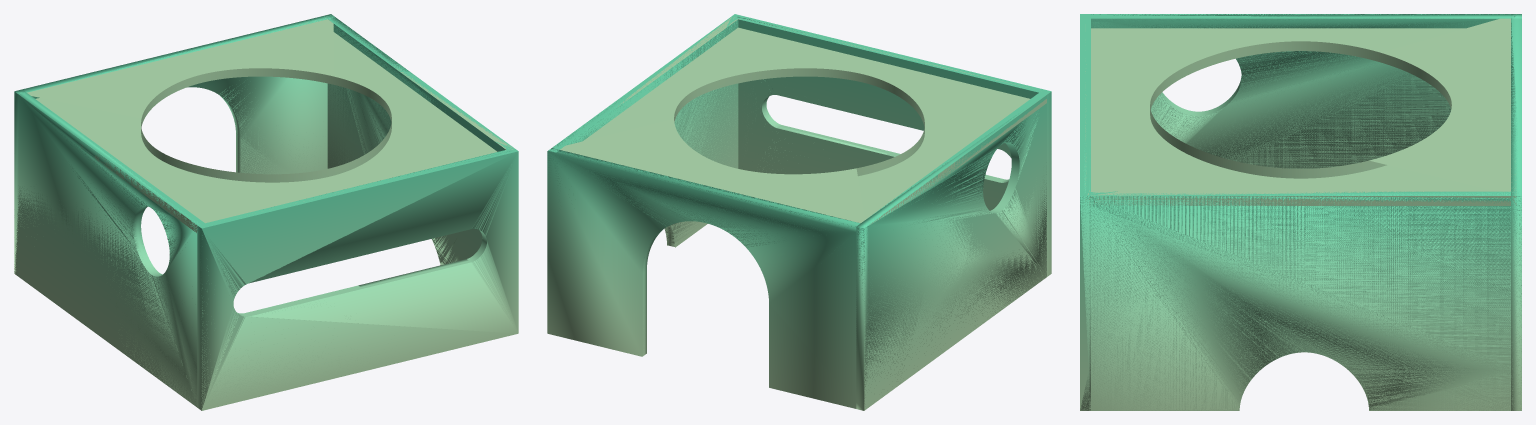
File: wallsandroof-13.glb
3 views of the same model, side by side, from view 1: azimuth 30°, elevation 25°; view 2: azimuth 150°, elevation 25°; view 3: azimuth 270°, elevation 25° (orthographic). The views are drawn at different scales.
Parts seen in each view (by area): view 1: Mesh_1, Mesh_4, Mesh_2, Mesh_3; view 2: Mesh_1, Mesh_4, Mesh_3, Mesh_2; view 3: Mesh_1, Mesh_4, Mesh_3, Mesh_2.
Part boxes in pixels (bbox=[...]): Mesh_1: bbox=[14, 14, 518, 410]; Mesh_4: bbox=[14, 18, 518, 410]; Mesh_2: bbox=[25, 14, 333, 381]; Mesh_3: bbox=[202, 15, 505, 355]; Mesh_1: bbox=[547, 17, 1051, 410]; Mesh_4: bbox=[547, 14, 1051, 410]; Mesh_3: bbox=[548, 19, 1038, 247]; Mesh_2: bbox=[553, 142, 1041, 408]; Mesh_1: bbox=[1080, 14, 1521, 410]; Mesh_4: bbox=[1080, 14, 1521, 410]; Mesh_3: bbox=[1080, 25, 1510, 410]; Mesh_2: bbox=[1161, 19, 1521, 410].
Size of the model in its own units: 20 by 11 by 20.5.
